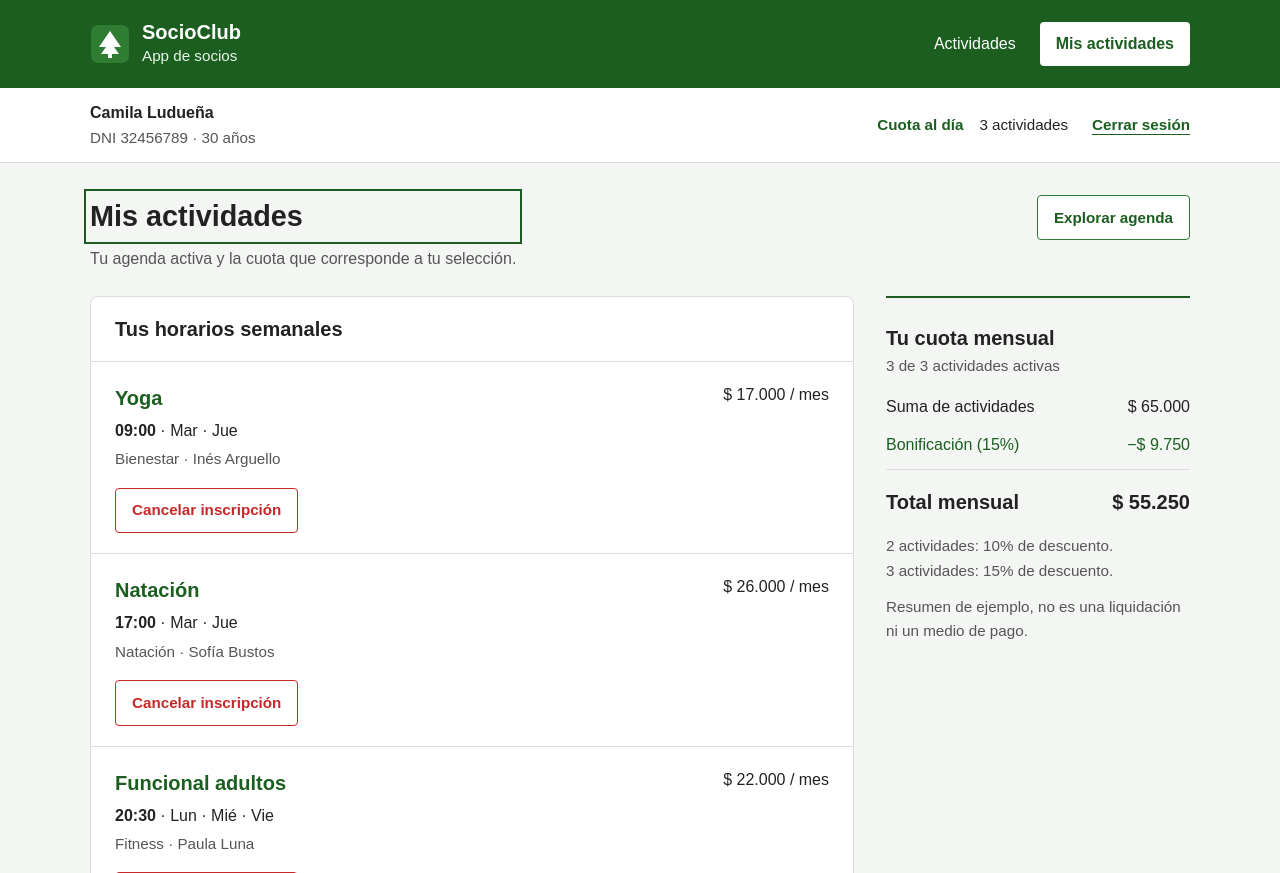
Test: confirmar Yoga y dar de alta Ajedrez actualiza cupo, contador, avisos y cuota
Click the button "Cancelar inscripción" below "Bienestar" at x=207, y=510, box [115,488,298,533]
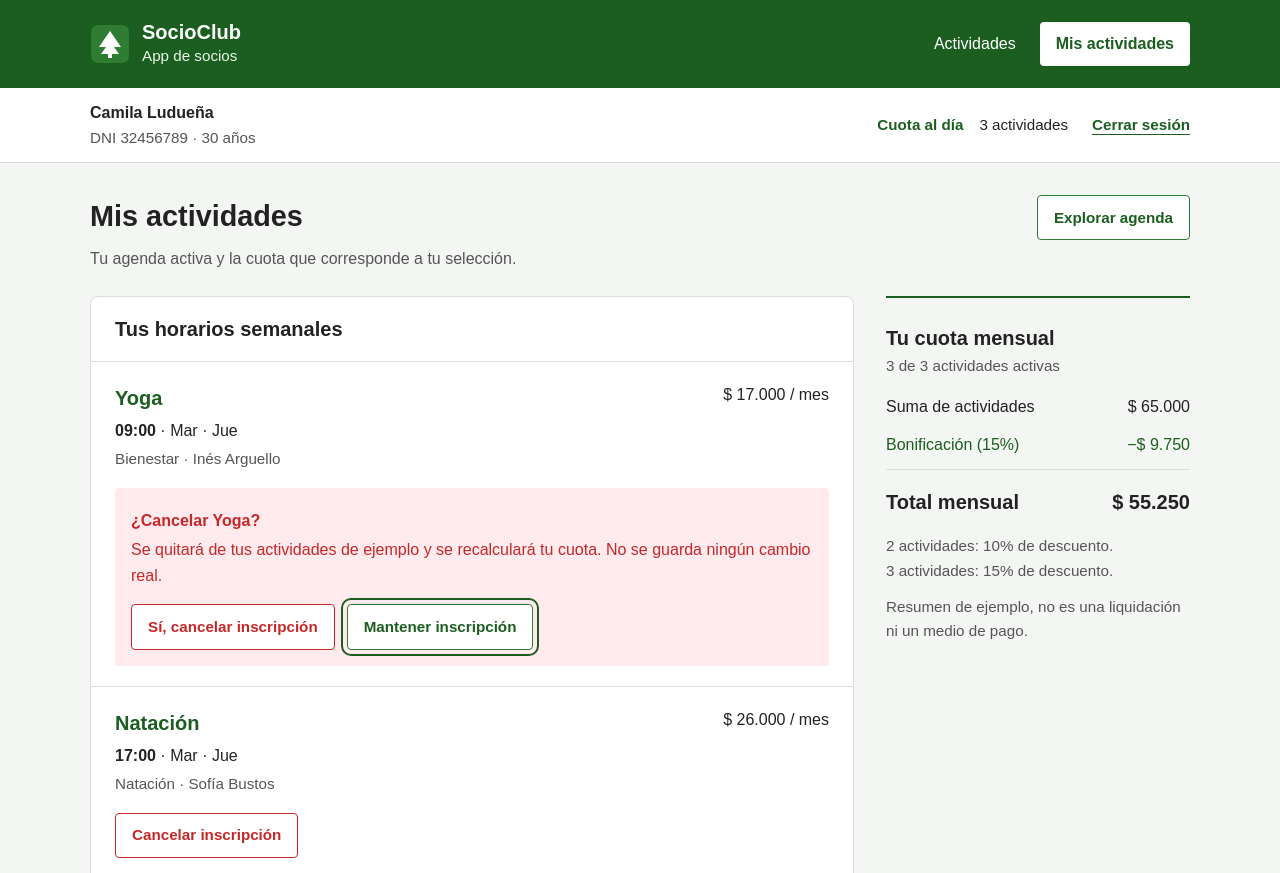
expect the text "$ 55.250" is shown: met, box [1112,486,1190,518]
expect the text named "Actividades activas" reads "3 actividades": met, box [979,113,1068,137]
Click the button "Sí, cancelar inscripción" at x=233, y=627, box [131,604,335,650]
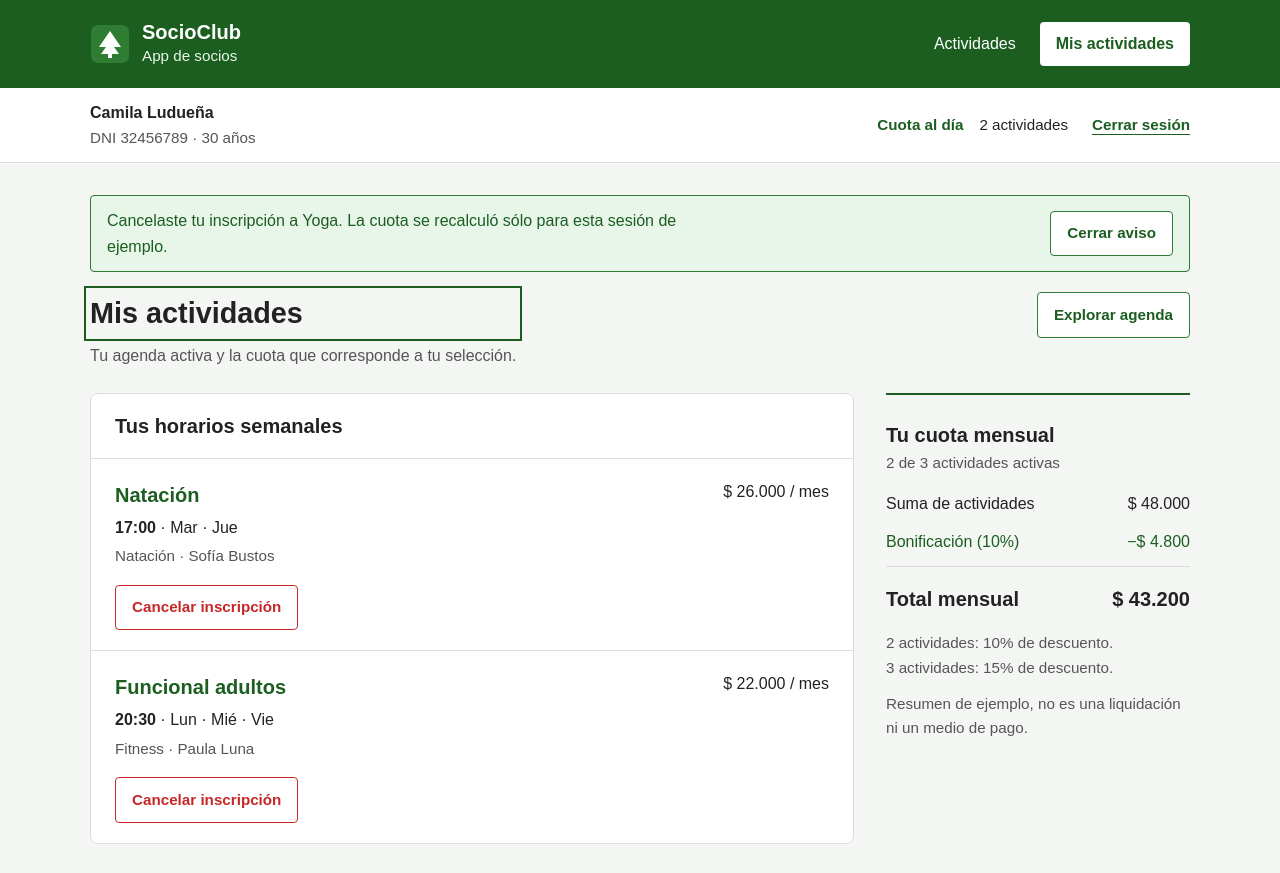
expect the text "$ 43.200" is shown: met, box [1112,583,1190,615]
expect the text named "Actividades activas" reads "2 actividades": met, box [979,113,1068,137]
expect the message named "Mensajes de la aplicación" shows "Cancelaste tu inscripción a Yoga": met, box [107,212,676,254]
Click the link "Actividades" at x=975, y=44, box [934,35,1016,52]
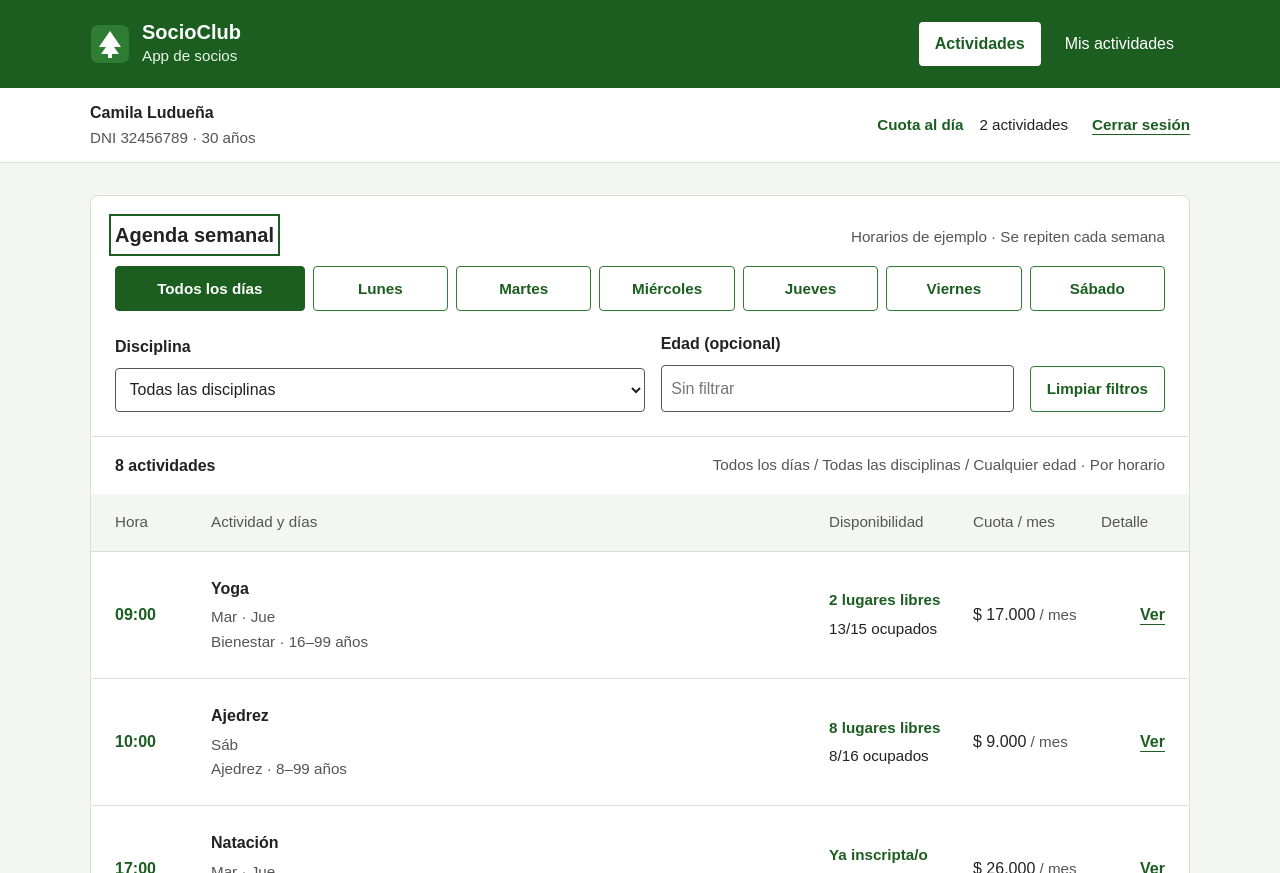
expect the text "2 lugares libres" is shown: met, box [829,588,957,613]
Click the link with aria-label "Ver detalle de Ajedrez" at x=1153, y=742, box [1140,733,1165,750]
(page scrolled)
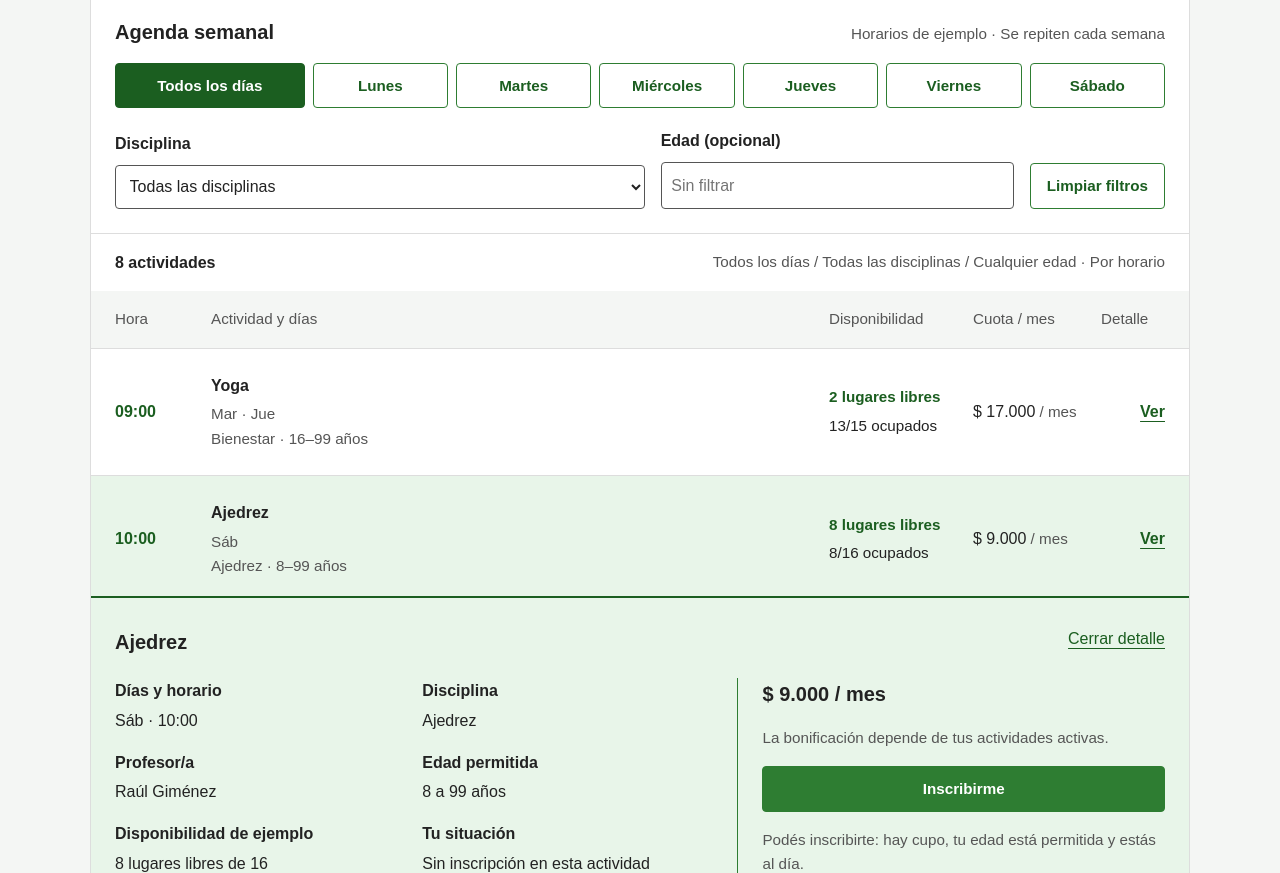
Click the button "Inscribirme" at x=964, y=789, box [762,766,1165,812]
(page scrolled)
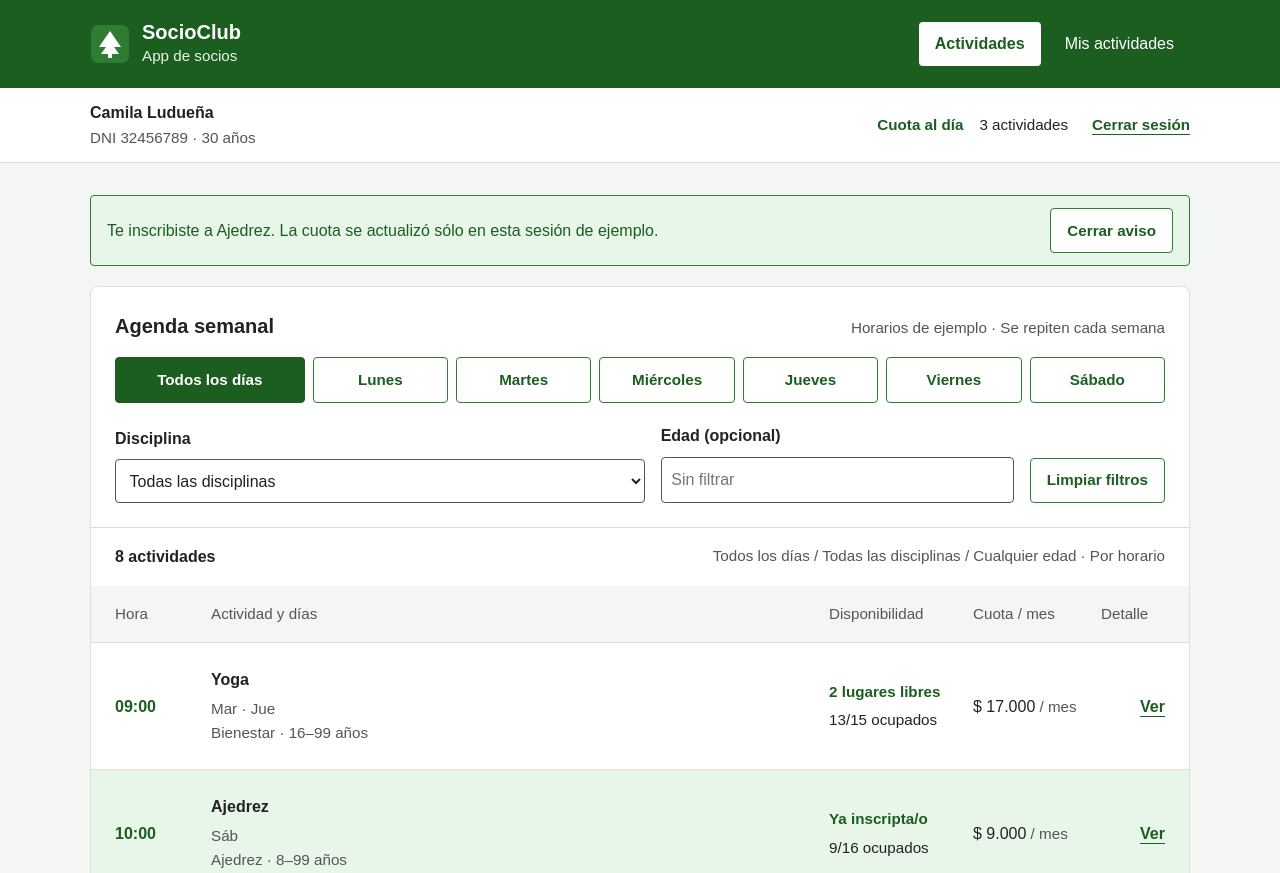
expect the text named "Actividades activas" reads "3 actividades": met, box [979,113,1068,137]
expect the message named "Mensajes de la aplicación" shows "Te inscribiste a Ajedrez": met, box [107,222,658,239]
expect the text "9/16 ocupados" is shown: met, box [829,838,929,856]
Click the link "Mis actividades" at x=1119, y=44, box [1065,35,1174,52]
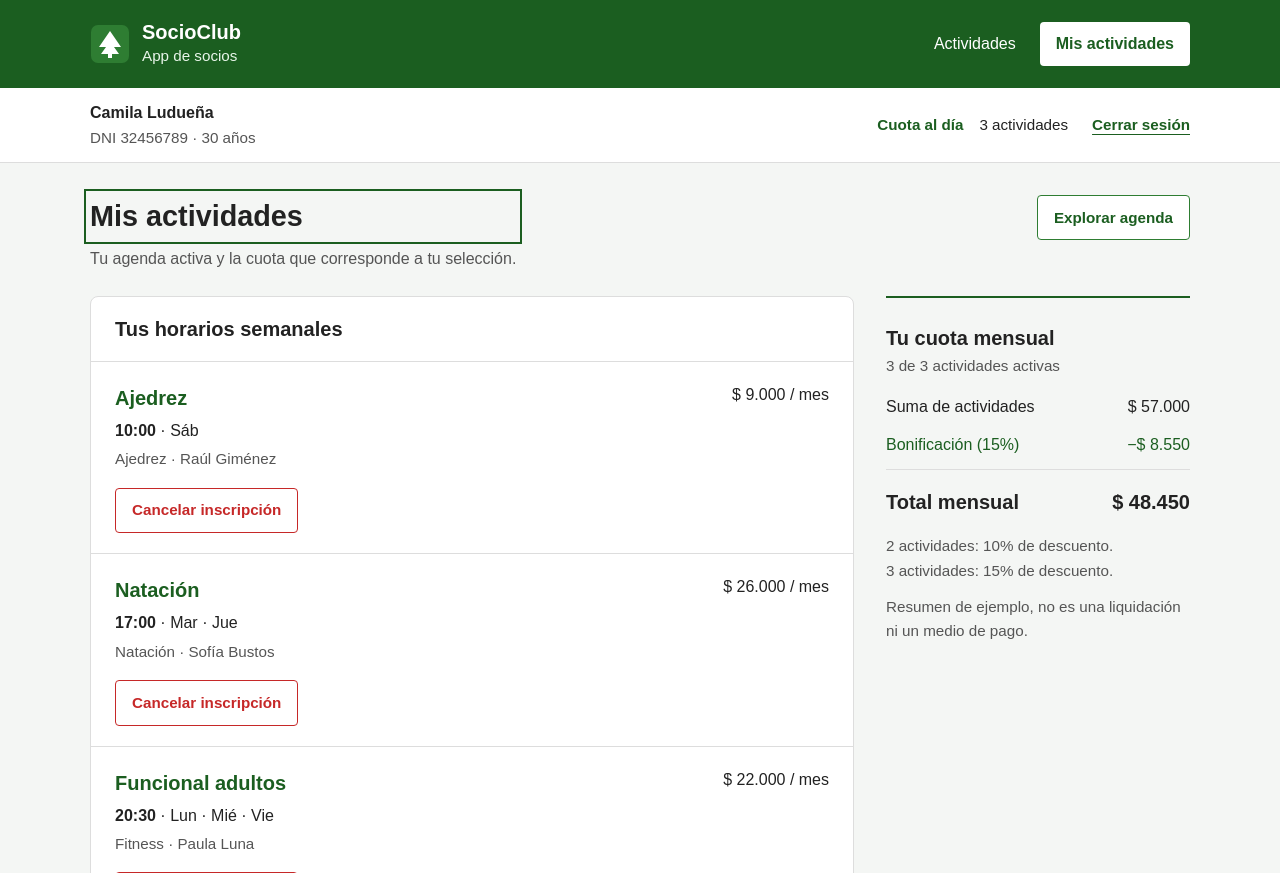
expect the text "$ 48.450" is shown: met, box [1112,486,1190,518]
expect the heading "Yoga" is gone: met
